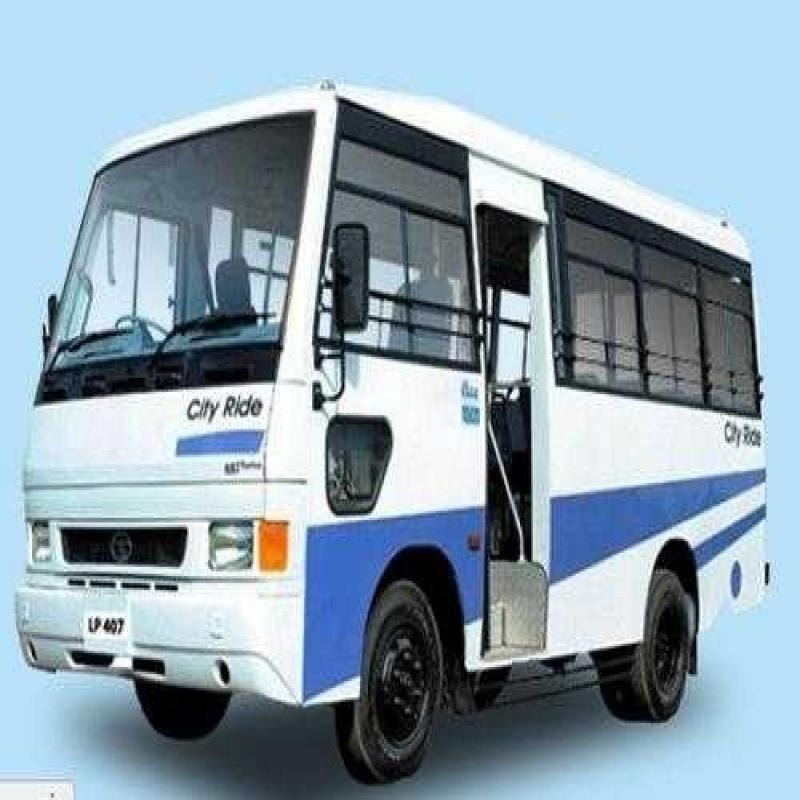bus: (34, 58, 784, 765)
